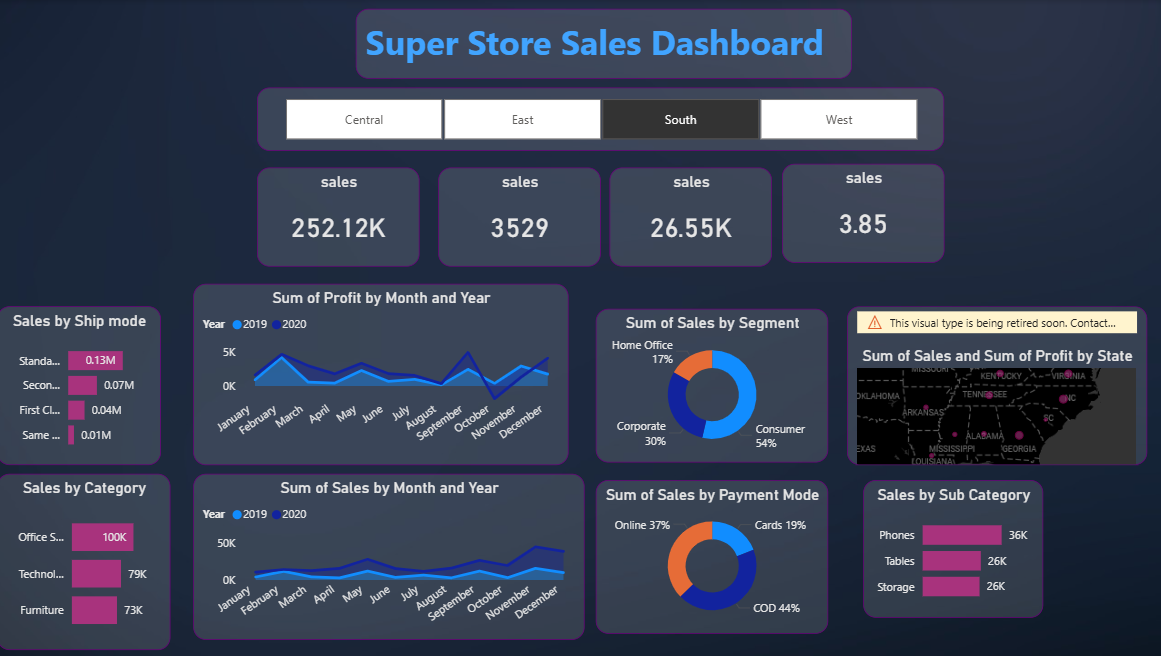

This screenshot's page, from the dashboard's own definition file:
{"tool":"powerbi","page":{"name":"Page 1","canvas":[1280,720],"ordinal":0},"visuals":[{"type":"clusteredBarChart","title":"Sales by Category","fields":{"Category":["SuperStore_Sales_Dataset.Category"],"Y":["Sum(SuperStore_Sales_Dataset.Sales)"]},"box":[0,520.1,190.7,193.5],"z":0},{"type":"clusteredBarChart","title":"Sales by Sub Category","fields":{"Category":["SuperStore_Sales_Dataset.Sub-Category"],"Y":["Sum(SuperStore_Sales_Dataset.Sales)"]},"box":[950.9,526.9,197.6,150.9],"z":1000},{"type":"clusteredBarChart","title":"Sales by Ship mode","fields":{"Category":["SuperStore_Sales_Dataset.Ship Mode"],"Y":["Sum(SuperStore_Sales_Dataset.Sales)"]},"box":[0,336.2,179.8,174.3],"z":2000},{"type":"stackedAreaChart","fields":{"Category":["SuperStore_Sales_Dataset.Order Date.Variation.Date Hierarchy.Month","SuperStore_Sales_Dataset.Order Date.Variation.Date Hierarchy.Day"],"Y":["Sum(SuperStore_Sales_Dataset.Sales)"],"Series":["SuperStore_Sales_Dataset.Order Date.Variation.Date Hierarchy.Year"]},"box":[215.4,520.1,429.5,182.5],"z":3000},{"type":"stackedAreaChart","fields":{"Category":["SuperStore_Sales_Dataset.Order Date.Variation.Date Hierarchy.Month","SuperStore_Sales_Dataset.Order Date.Variation.Date Hierarchy.Day"],"Series":["SuperStore_Sales_Dataset.Order Date.Variation.Date Hierarchy.Year"],"Y":["Sum(SuperStore_Sales_Dataset.Profit)"]},"box":[215.4,311.5,411.7,199],"z":4000},{"type":"map","fields":{"Category":["SuperStore_Sales_Dataset.State"],"Size":["Sum(SuperStore_Sales_Dataset.Sales)"]},"box":[933.1,336.2,329.3,171.5],"z":5000},{"type":"donutChart","fields":{"Category":["SuperStore_Sales_Dataset.Segment"],"Y":["Sum(SuperStore_Sales_Dataset.Sales)"]},"box":[657.3,338.9,255.2,168.8],"z":6000},{"type":"slicer","fields":{"Values":["SuperStore_Sales_Dataset.Region"]},"box":[285.4,96.1,754.7,70],"z":7000},{"type":"textbox","box":[393.8,9.6,544.8,76.8],"z":8000},{"type":"card","title":"sales","fields":{"Values":["Sum(SuperStore_Sales_Dataset.Sales)"]},"box":[285.4,183.9,178.4,108.4],"z":9000},{"type":"card","title":"sales","fields":{"Values":["Avg(SuperStore_Sales_Dataset.AvgDelievery)"]},"box":[861.8,179.8,178.4,108.4],"z":9001},{"type":"card","title":"sales","fields":{"Values":["Sum(SuperStore_Sales_Dataset.Profit)"]},"box":[672.4,183.9,178.4,108.4],"z":9002},{"type":"card","title":"sales","fields":{"Values":["Sum(SuperStore_Sales_Dataset.Quantity)"]},"box":[484.4,183.9,178.4,108.4],"z":9003},{"type":"donutChart","fields":{"Y":["Sum(SuperStore_Sales_Dataset.Sales)"],"Series":["SuperStore_Sales_Dataset.Payment Mode"]},"box":[657.3,526.9,255.2,168.8],"z":9004}]}

Visuals, with their boxes in screenshot pixels (x1, y1, x2, y2), scaled from the page's 1280x720 canvas onto the 1161x656 screenshot:
"Sales by Category" clusteredBarChart: 0,474,173,650
"Sales by Sub Category" clusteredBarChart: 862,480,1042,618
"Sales by Ship mode" clusteredBarChart: 0,306,163,465
stackedAreaChart - SuperStore_Sales_Dataset.Order Date.Variation.Date Hierarchy.Month x SuperStore_Sales_Dataset.Order Date.Variation.Date Hierarchy.Day: 195,474,585,640
stackedAreaChart - SuperStore_Sales_Dataset.Order Date.Variation.Date Hierarchy.Month x SuperStore_Sales_Dataset.Order Date.Variation.Date Hierarchy.Day: 195,284,569,465
map - SuperStore_Sales_Dataset.State x Sum(SuperStore_Sales_Dataset.Sales): 846,306,1145,463
donutChart - SuperStore_Sales_Dataset.Segment x Sum(SuperStore_Sales_Dataset.Sales): 596,309,828,463
slicer - SuperStore_Sales_Dataset.Region: 259,88,943,151
textbox: 357,9,851,79
"sales" card: 259,168,421,266
"sales" card: 782,164,943,263
"sales" card: 610,168,772,266
"sales" card: 439,168,601,266
donutChart - Sum(SuperStore_Sales_Dataset.Sales) x SuperStore_Sales_Dataset.Payment Mode: 596,480,828,634
